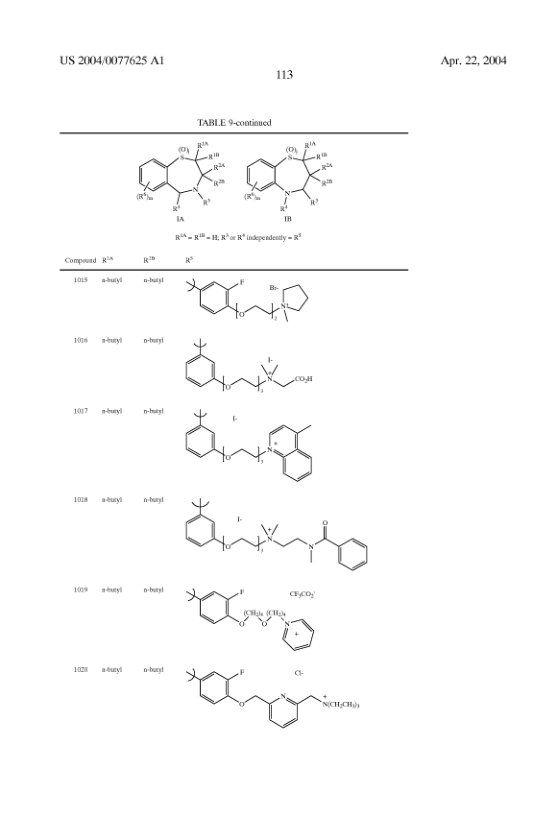compound-structure: (182, 490, 369, 577), (181, 661, 369, 732), (188, 403, 320, 484), (180, 582, 324, 655), (240, 136, 339, 223), (183, 332, 315, 396), (133, 138, 228, 226), (185, 275, 320, 326)
